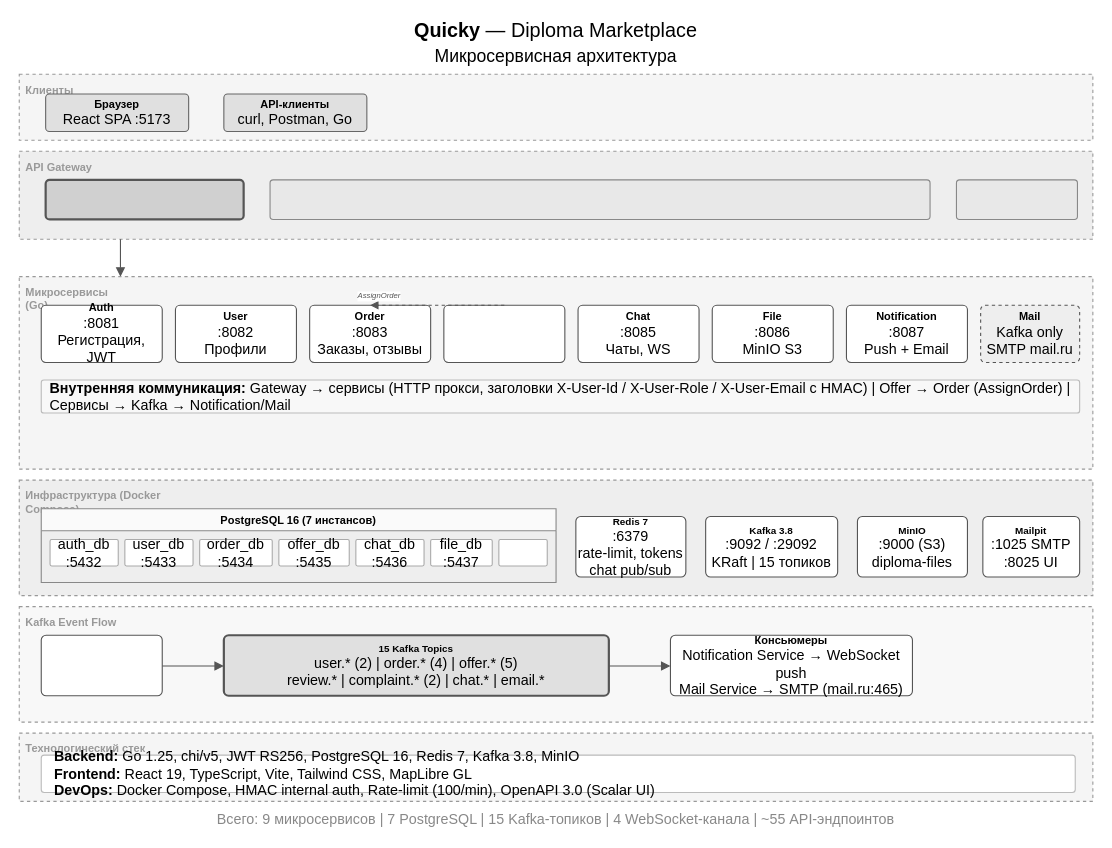
Some shapes in this 1112 by 848 pixel diagram are drawn without their labels. The centre of each missing label's shape, as x and y in pixels:
"notif_db :5438" belongs at [522,552].
"Offer :8084 Офферы" belongs at [504,333].
"RequestID → RealIP → CORS → Logging → RateLimit → Auth(JWT) → Proxy → сервисы" belongs at [599,199].
"WS: orders, offers, chat, notifications" belongs at [1016,199].
"Продюсеры Auth · Order Offer · Chat" belongs at [101,665].
"🛡️ API Gateway Go/chi :8080" belongs at [144,199].
